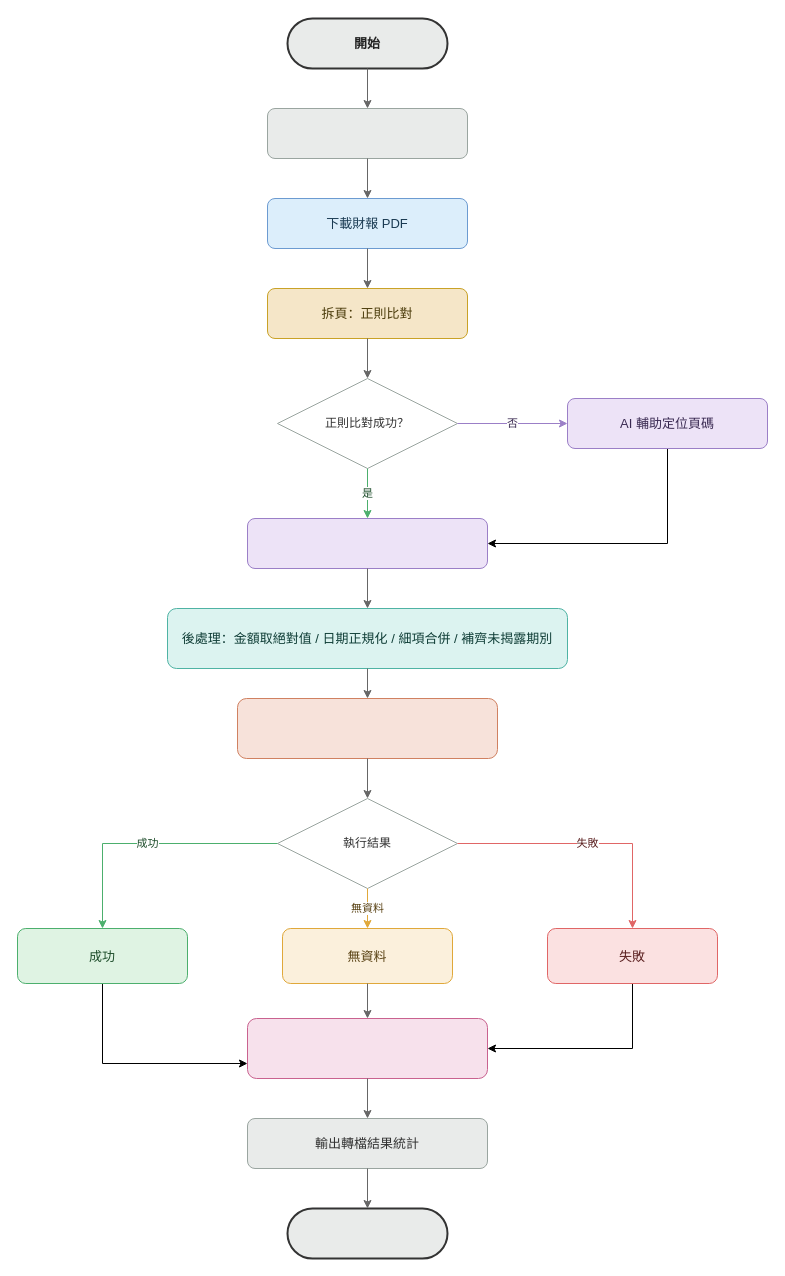
The diagram is 785 pixels wide and 1276 high, and some of its shapes have lost their labels. The centre of each missing label's shape, as x and y in pixels:
"AI 解析（Gemini 抽取資料）" goes at (367,543).
"參數設定 / 初始化" goes at (367,133).
"報表產出：依公司代號分流寫入 Excel" goes at (367,1048).
"結束" goes at (367,1233).
"配碼：依產業別套用規則轉內部代碼" goes at (367,728).
